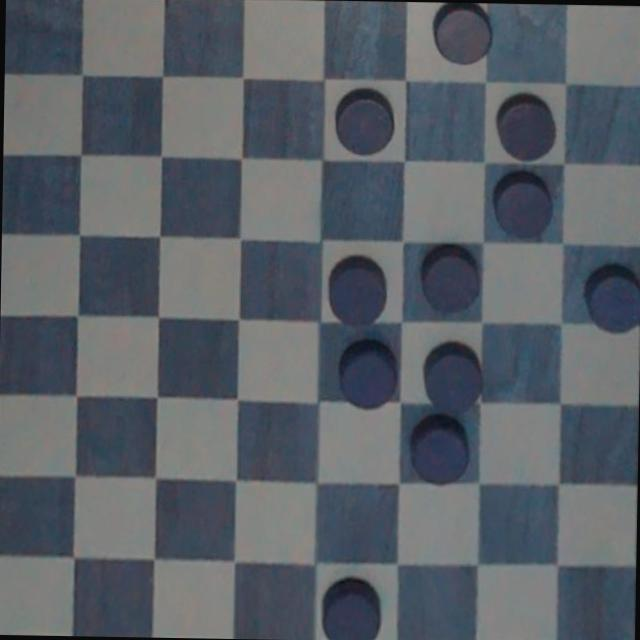BOARD: (0, 0, 640, 640)
black: (418, 328, 494, 412), (324, 336, 402, 408), (328, 87, 398, 160), (321, 256, 391, 326), (404, 417, 474, 487), (419, 243, 483, 316), (318, 571, 385, 640), (580, 263, 640, 339), (493, 87, 552, 164), (492, 166, 550, 238), (430, 2, 490, 70)
